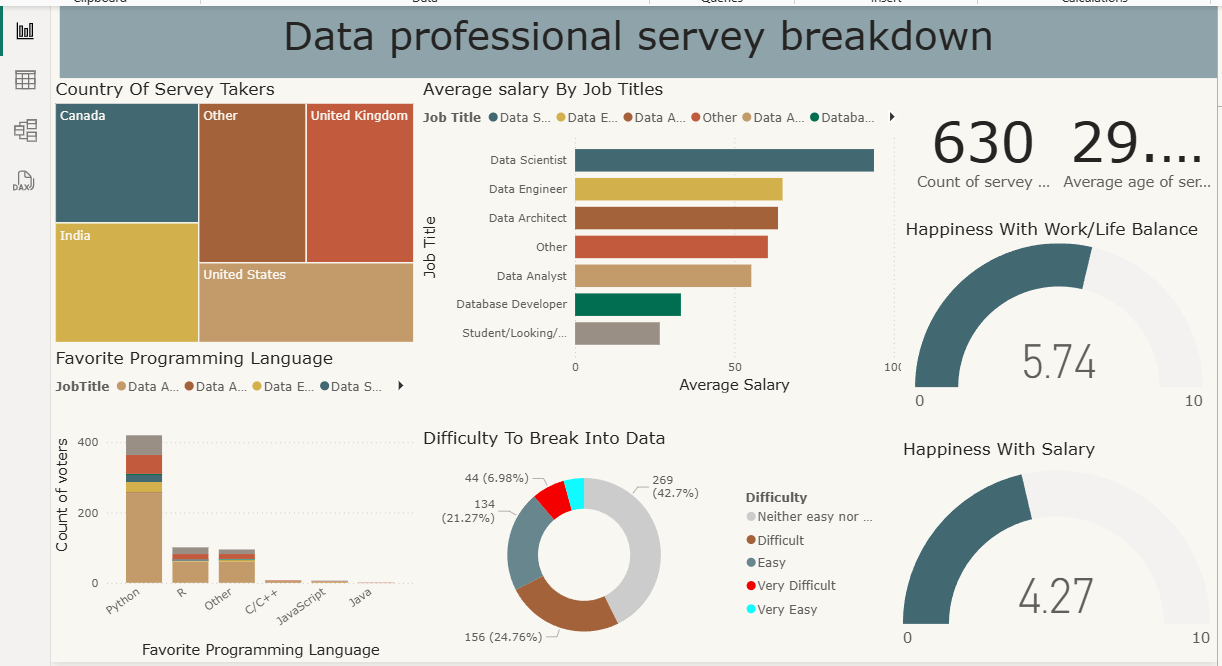

What the dashboard file says about the page in this screenshot:
{"tool":"powerbi","page":{"name":"Page 1","canvas":[1280,720],"ordinal":0},"visuals":[{"type":"textbox","box":[9.6,0,1270.7,79.6],"z":0},{"type":"textbox","box":[10,290,280,280],"z":1000},{"type":"qnaVisual","box":[289.5,312.9,990.7,279.9],"z":2000},{"type":"card","fields":{"Values":["Count(Data Professional Survey.Unique ID)"]},"box":[942.7,79.6,161.9,150.9],"z":3000},{"type":"card","fields":{"Values":["Avg(Data Professional Survey.Q10 - Current Age)"]},"box":[1104.6,79.6,175.6,150.9],"z":4000},{"type":"barChart","title":"Average salary By Job Titles","fields":{"Category":["Data Professional Survey (2).Q1 - Which Title Best Fits your Current Role?.1"],"Y":["Avg(Data Professional Survey (2).Average salary)"],"Series":["Data Professional Survey (2).Q1 - Which Title Best Fits your Current Role?.1"]},"box":[413,79.6,529.7,382.8],"z":5000},{"type":"columnChart","title":"Favorite Programming Language","fields":{"Category":["Data Professional Survey (2).Q5 - Favorite Programming Language.1"],"Y":["CountNonNull(Data Professional Survey (2).Unique ID)"],"Series":["Data Professional Survey (2).Q1 - Which Title Best Fits your Current Role?.1"]},"box":[0,374.6,439.1,345.8],"z":6000},{"type":"gauge","title":"Happiness With Work/Life Balance","fields":{"Y":["Avg(Data Professional Survey (2).Q6 - How Happy are you in your Current Position with the following? (Work/Life Balance)"],"MinValue":["Min(Data Professional Survey (2).Q6 - How Happy are you in your Current Position with the following? (Work/Life Balance)"],"MaxValue":["Max(Data Professional Survey (2).Q6 - How Happy are you in your Current Position with the following? (Work/Life Balance)"]},"box":[933.1,233.3,347.2,241.5],"z":7000},{"type":"treemap","title":"Country Of Servey Takers","fields":{"Group":["Data Professional Survey (2).Q11 - Which Country do you live in?.1"],"Values":["Count(Data Professional Survey (2).Q11 - Which Country do you live in?.1)"]},"box":[0,79.6,413,295],"z":8000},{"type":"gauge","title":"Happiness With Salary","fields":{"Y":["Avg(Data Professional Survey (2).Q6 - How Happy are you in your Current Position with the following? (Salary))"],"MinValue":["Min(Data Professional Survey (2).Q6 - How Happy are you in your Current Position with the following? (Salary))"],"MaxValue":["Max(Data Professional Survey (2).Q6 - How Happy are you in your Current Position with the following? (Salary))"]},"box":[933.1,462.4,347.2,258],"z":9000},{"type":"donutChart","title":"Difficulty To Break Into Data","fields":{"Category":["Data Professional Survey (2).Q7 - How difficult was it for you to break into Data?"],"Y":["CountNonNull(Data Professional Survey (2).Q7 - How difficult was it for you to break into Data?)"]},"box":[426.8,462.4,506.3,258],"z":10000}]}

Visuals, with their boxes on the page's 1280x720 design canvas (x1, y1, x2, y2). These are canvas units, not pixel positions in the 1222x666 screenshot, which may show the page scaled, cropped or inside an application window:
textbox: bbox=(10, 0, 1280, 80)
textbox: bbox=(10, 290, 290, 570)
qnaVisual: bbox=(290, 313, 1280, 593)
card - Count(Data Professional Survey.Unique ID): bbox=(943, 80, 1105, 230)
card - Avg(Data Professional Survey.Q10 - Current Age): bbox=(1105, 80, 1280, 230)
"Average salary By Job Titles" barChart: bbox=(413, 80, 943, 462)
"Favorite Programming Language" columnChart: bbox=(0, 375, 439, 720)
"Happiness With Work/Life Balance" gauge: bbox=(933, 233, 1280, 475)
"Country Of Servey Takers" treemap: bbox=(0, 80, 413, 375)
"Happiness With Salary" gauge: bbox=(933, 462, 1280, 720)
"Difficulty To Break Into Data" donutChart: bbox=(427, 462, 933, 720)
